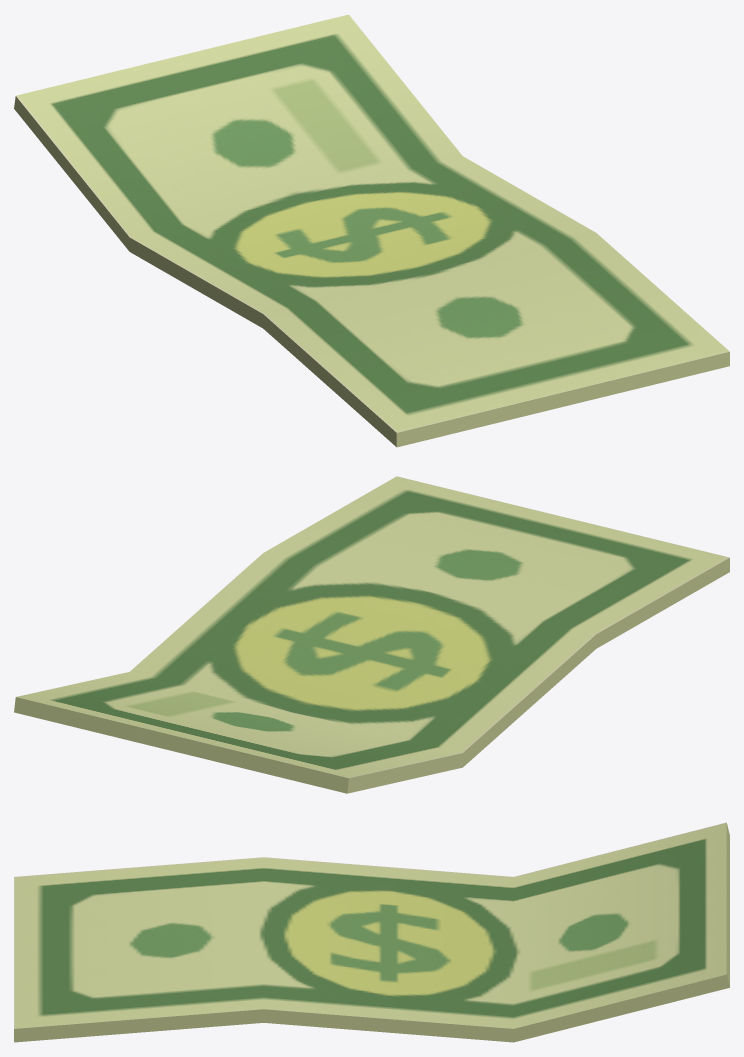
Rendered from dinheiro_nota_curvada_pacote.glb.
3 renders of one model, top to bottom at view 1: azimuth 30°, elevation 25°; view 2: azimuth 150°, elevation 25°; view 3: azimuth 270°, elevation 25°, orthographic. The views are drawn at different scales.
Parts seen in each view (by area): view 1: dinheiro_nota_curvada_pacote; view 2: dinheiro_nota_curvada_pacote; view 3: dinheiro_nota_curvada_pacote.
Boxes of the visible parts, x1,y1,x2,y2 form: dinheiro_nota_curvada_pacote: (14,14,729,447); dinheiro_nota_curvada_pacote: (14,476,729,793); dinheiro_nota_curvada_pacote: (14,822,729,1042).
Bounding box in the file's own units: 0.0756 × 0.0158 × 0.1504.
1 material, 1 textured.
